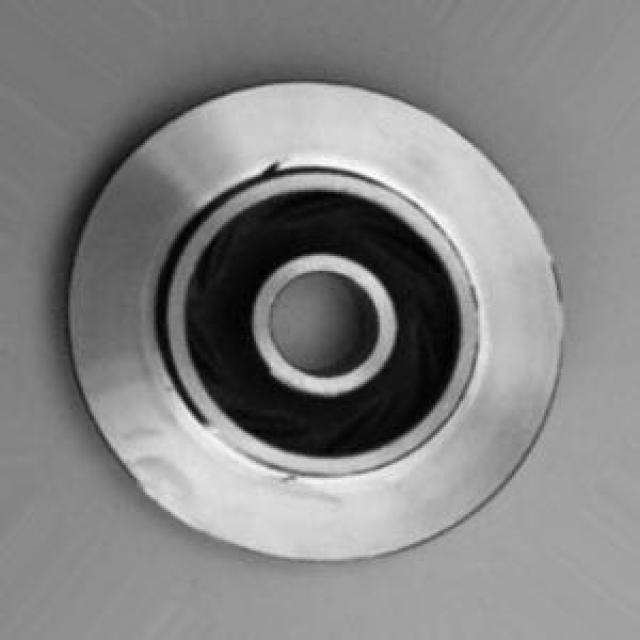Defect: (255, 153, 286, 183)
